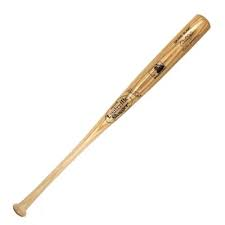baseball bat: (11, 13, 211, 217)
